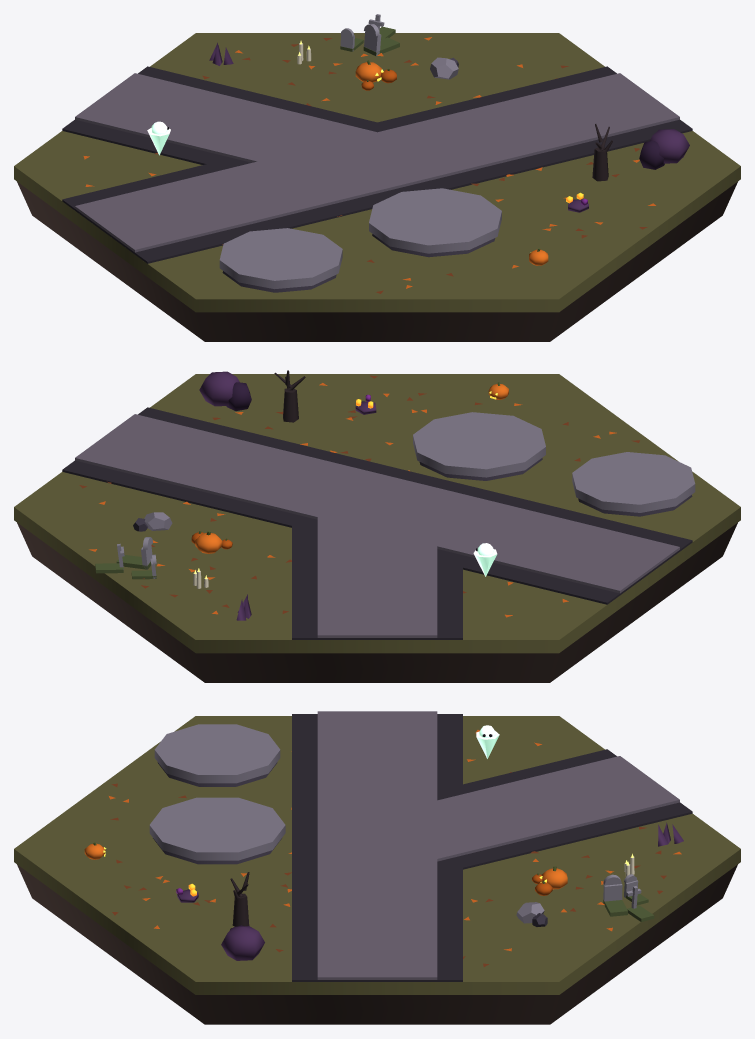
Rendered from tile_tJunction.glb.
3 renders of one model, top to bottom at view 1: azimuth 30°, elevation 25°; view 2: azimuth 150°, elevation 25°; view 3: azimuth 270°, elevation 25°, orthographic.
Parts seen in each view (by area): view 1: ground, road, ground_soil, tower_slot_2_plate, tower_slot_1_plate, road_surface_hub, deco_bush_0_a, deco_bush_0_b; view 2: ground, road, ground_soil, tower_slot_2_plate, tower_slot_1_plate, road_surface_hub, deco_bush_0_a, deco_bush_0_b; view 3: ground, road, ground_soil, tower_slot_2_plate, tower_slot_1_plate, deco_bush_0_a, road_surface_hub.
Part boxes in pixels (x1,y1,x2,y2): ground: (14, 33, 740, 312); road: (62, 66, 692, 263); ground_soil: (17, 182, 737, 341); tower_slot_2_plate: (369, 188, 501, 253); tower_slot_1_plate: (219, 228, 342, 289); road_surface_hub: (319, 137, 436, 186); deco_bush_0_a: (649, 129, 689, 163); deco_bush_0_b: (639, 141, 664, 169); ground: (14, 374, 740, 653); road: (62, 407, 692, 639); ground_soil: (17, 522, 737, 682); tower_slot_2_plate: (413, 412, 545, 477); tower_slot_1_plate: (572, 452, 695, 512); road_surface_hub: (323, 477, 436, 527); deco_bush_0_a: (199, 371, 239, 406); deco_bush_0_b: (226, 382, 251, 411); ground: (14, 716, 740, 994); road: (292, 711, 692, 981); ground_soil: (17, 864, 737, 1024); tower_slot_2_plate: (149, 797, 285, 860); tower_slot_1_plate: (154, 724, 280, 783); deco_bush_0_a: (221, 926, 264, 960); road_surface_hub: (318, 822, 436, 844).
Bounding box in the file's own units: 1.73 × 0.3077 × 2.
